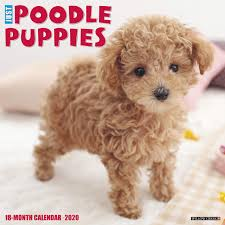Poodle: (35, 15, 205, 211)
